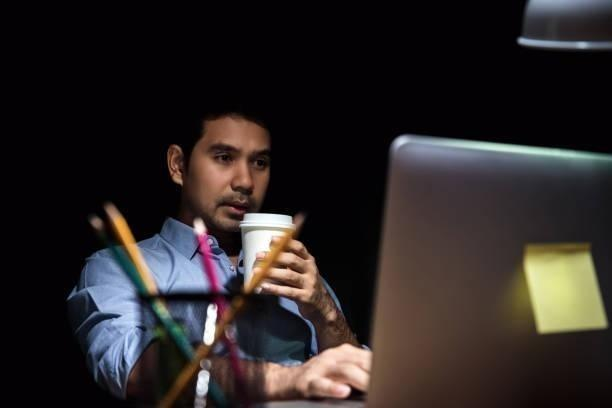cup-disposable: (237, 210, 297, 295)
